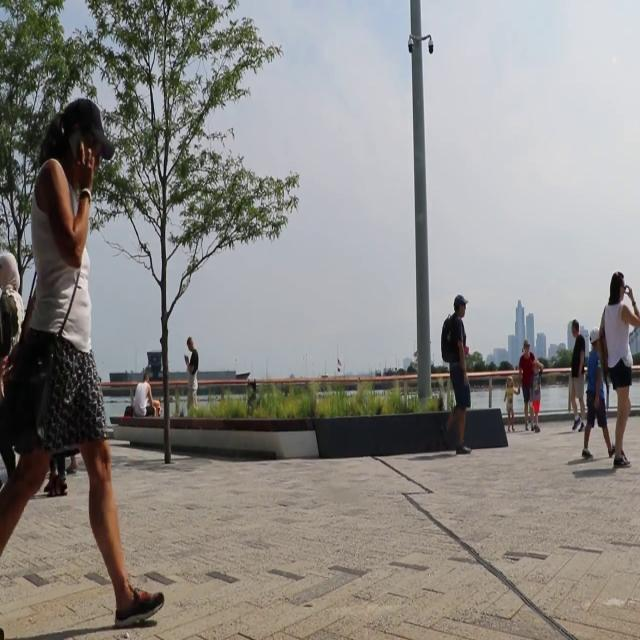normal: (2, 102, 170, 623), (594, 266, 640, 474), (438, 290, 479, 460)
